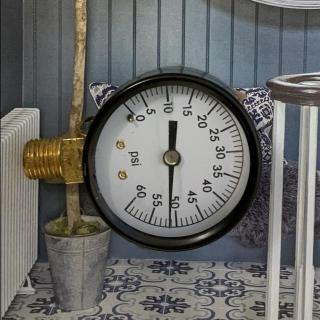gauge: (76, 68, 278, 256), (233, 1, 319, 11), (120, 182, 148, 212), (120, 101, 146, 127), (162, 149, 182, 167), (167, 216, 176, 228)
